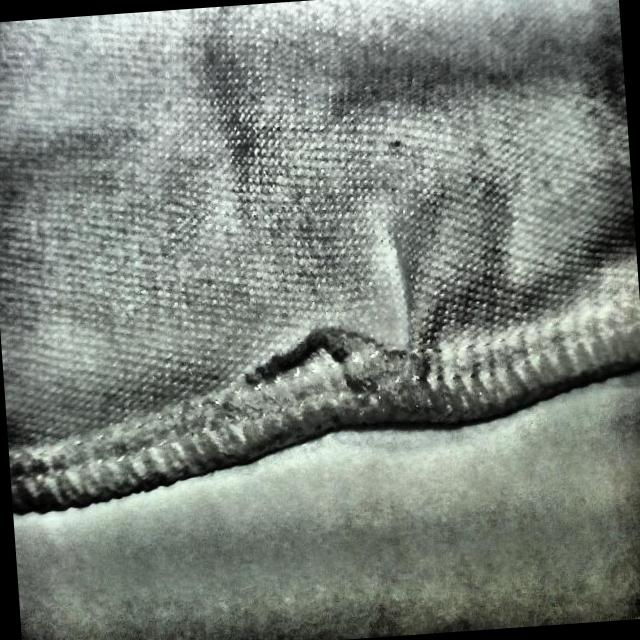gray stitch: (273, 240, 452, 436)
